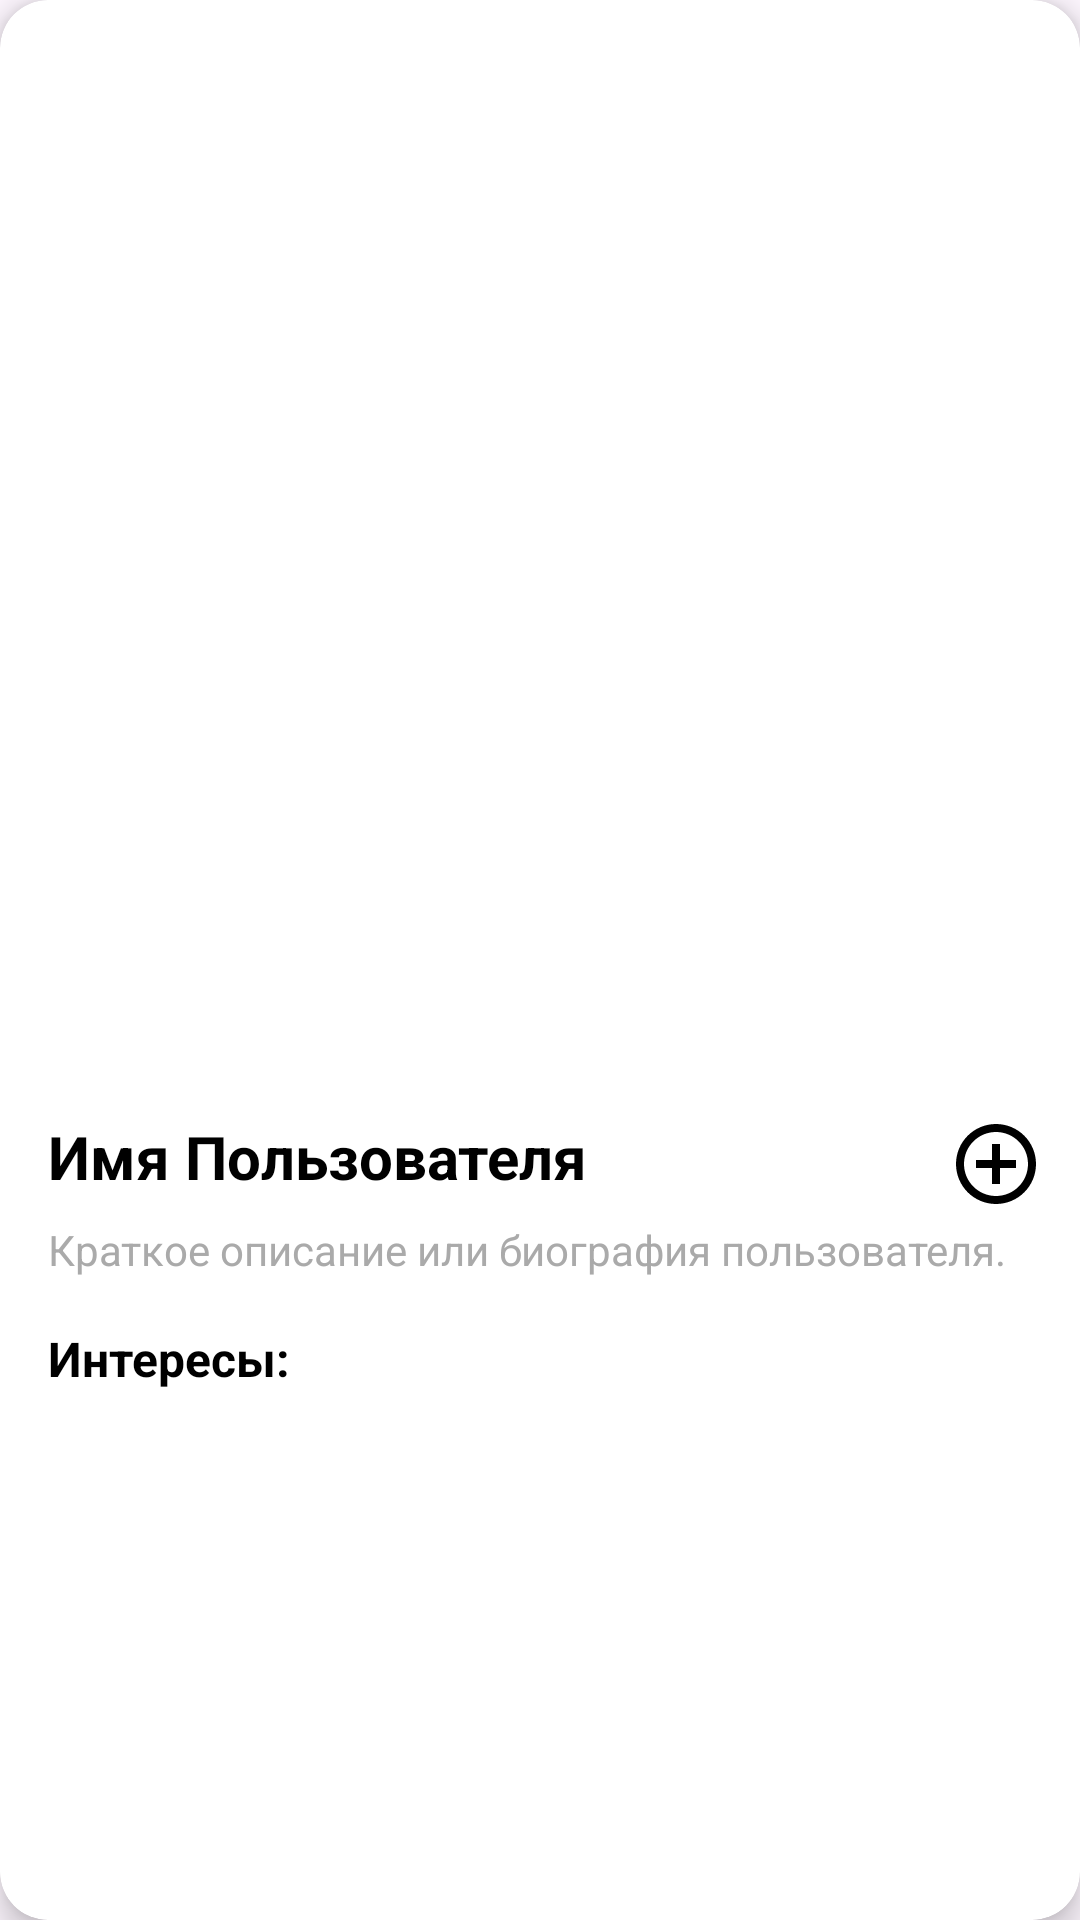

Icon click points for this 1080w x 1920h phone screenshot, format point (x, y):
Add to Favorites: point (996, 1164)
